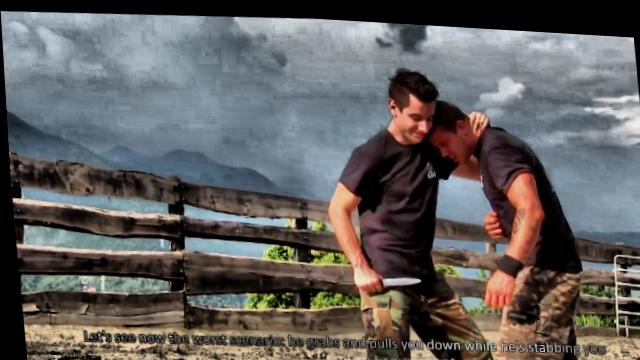knife: (346, 263, 424, 298)
